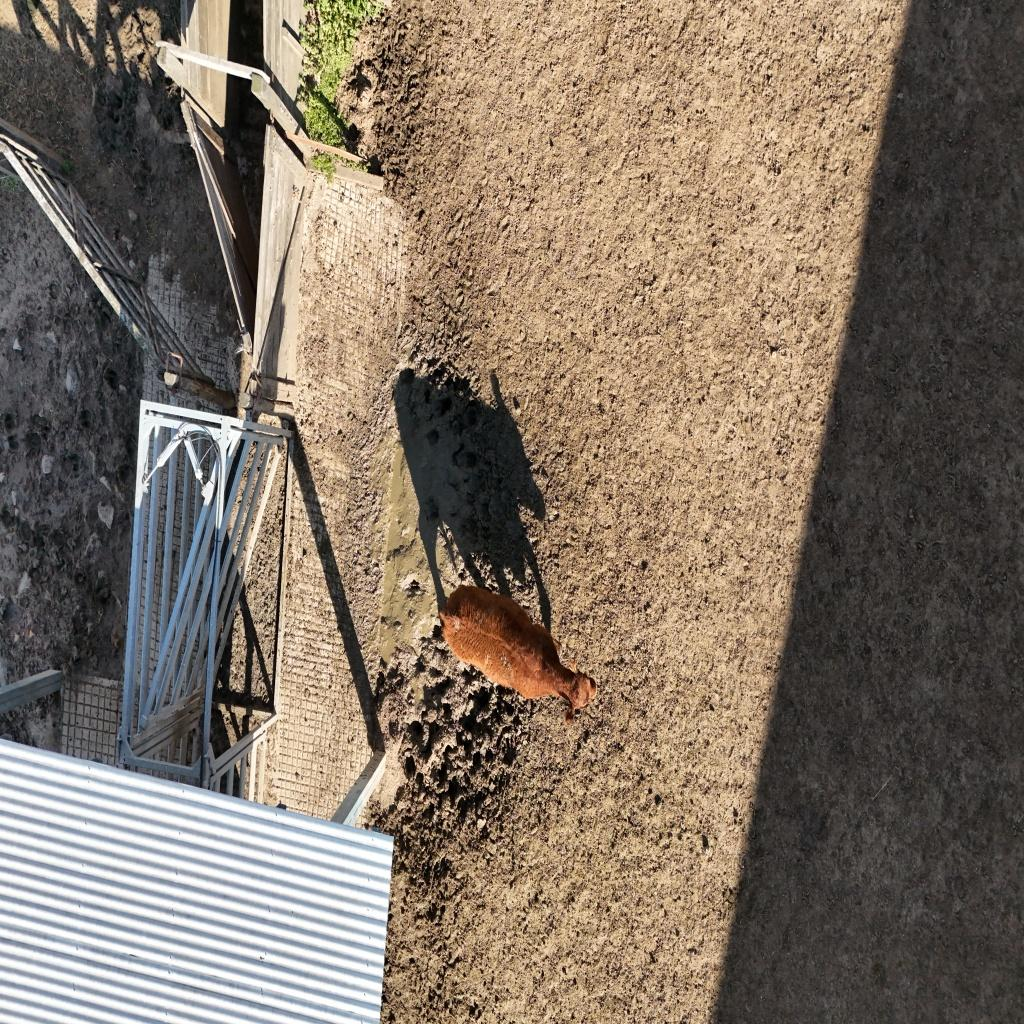cow: (436, 567, 598, 725)
